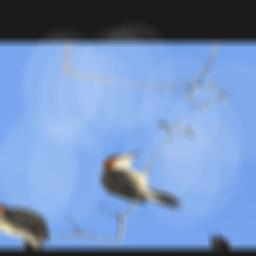Woodpecker: (73, 141, 206, 226)
